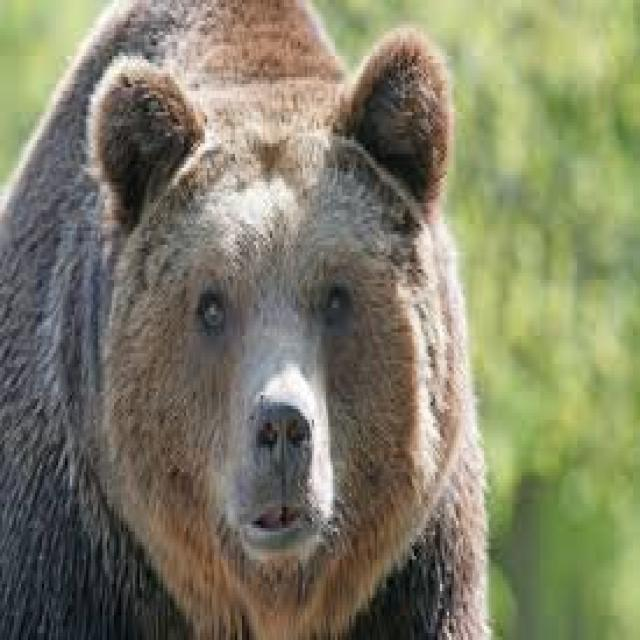bear: (12, 8, 640, 639)
